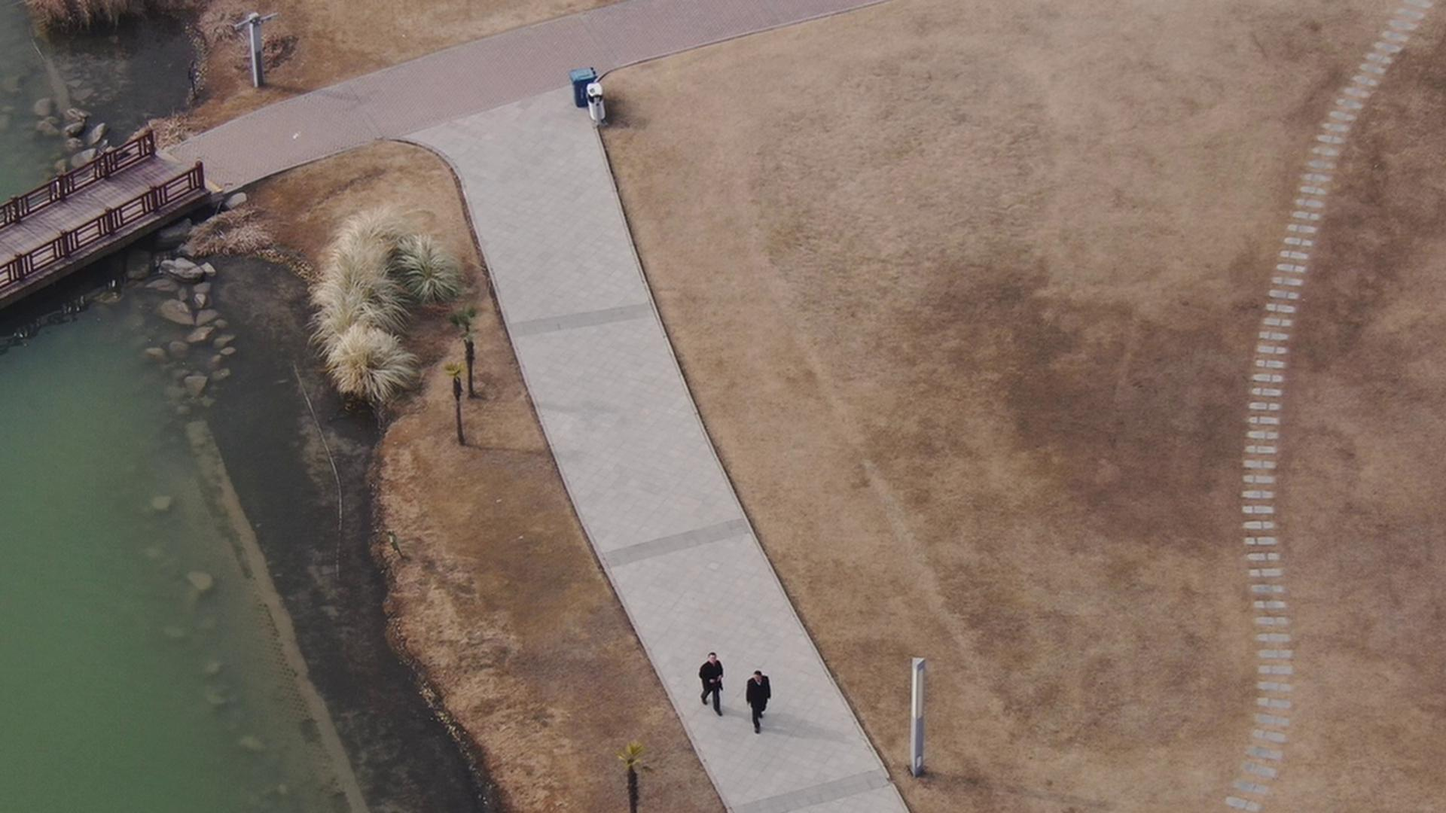human: (746, 657, 782, 741), (703, 643, 735, 720)
